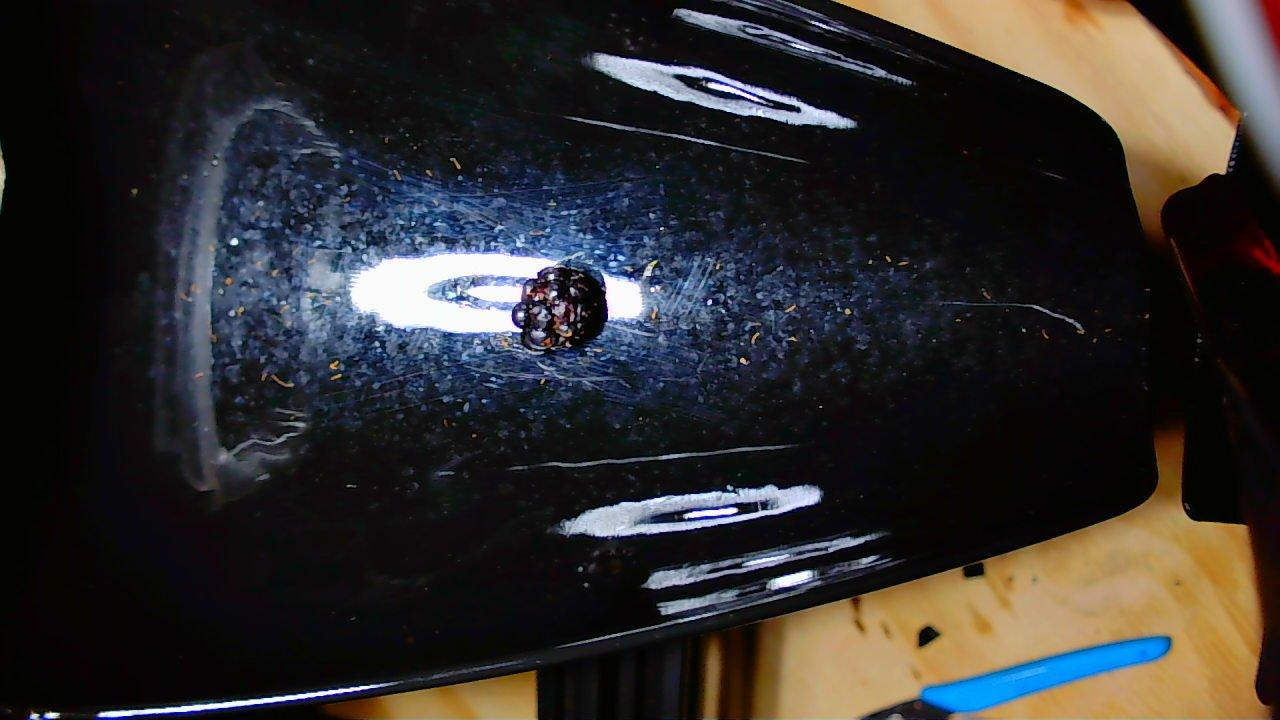berry: (511, 265, 607, 351)
